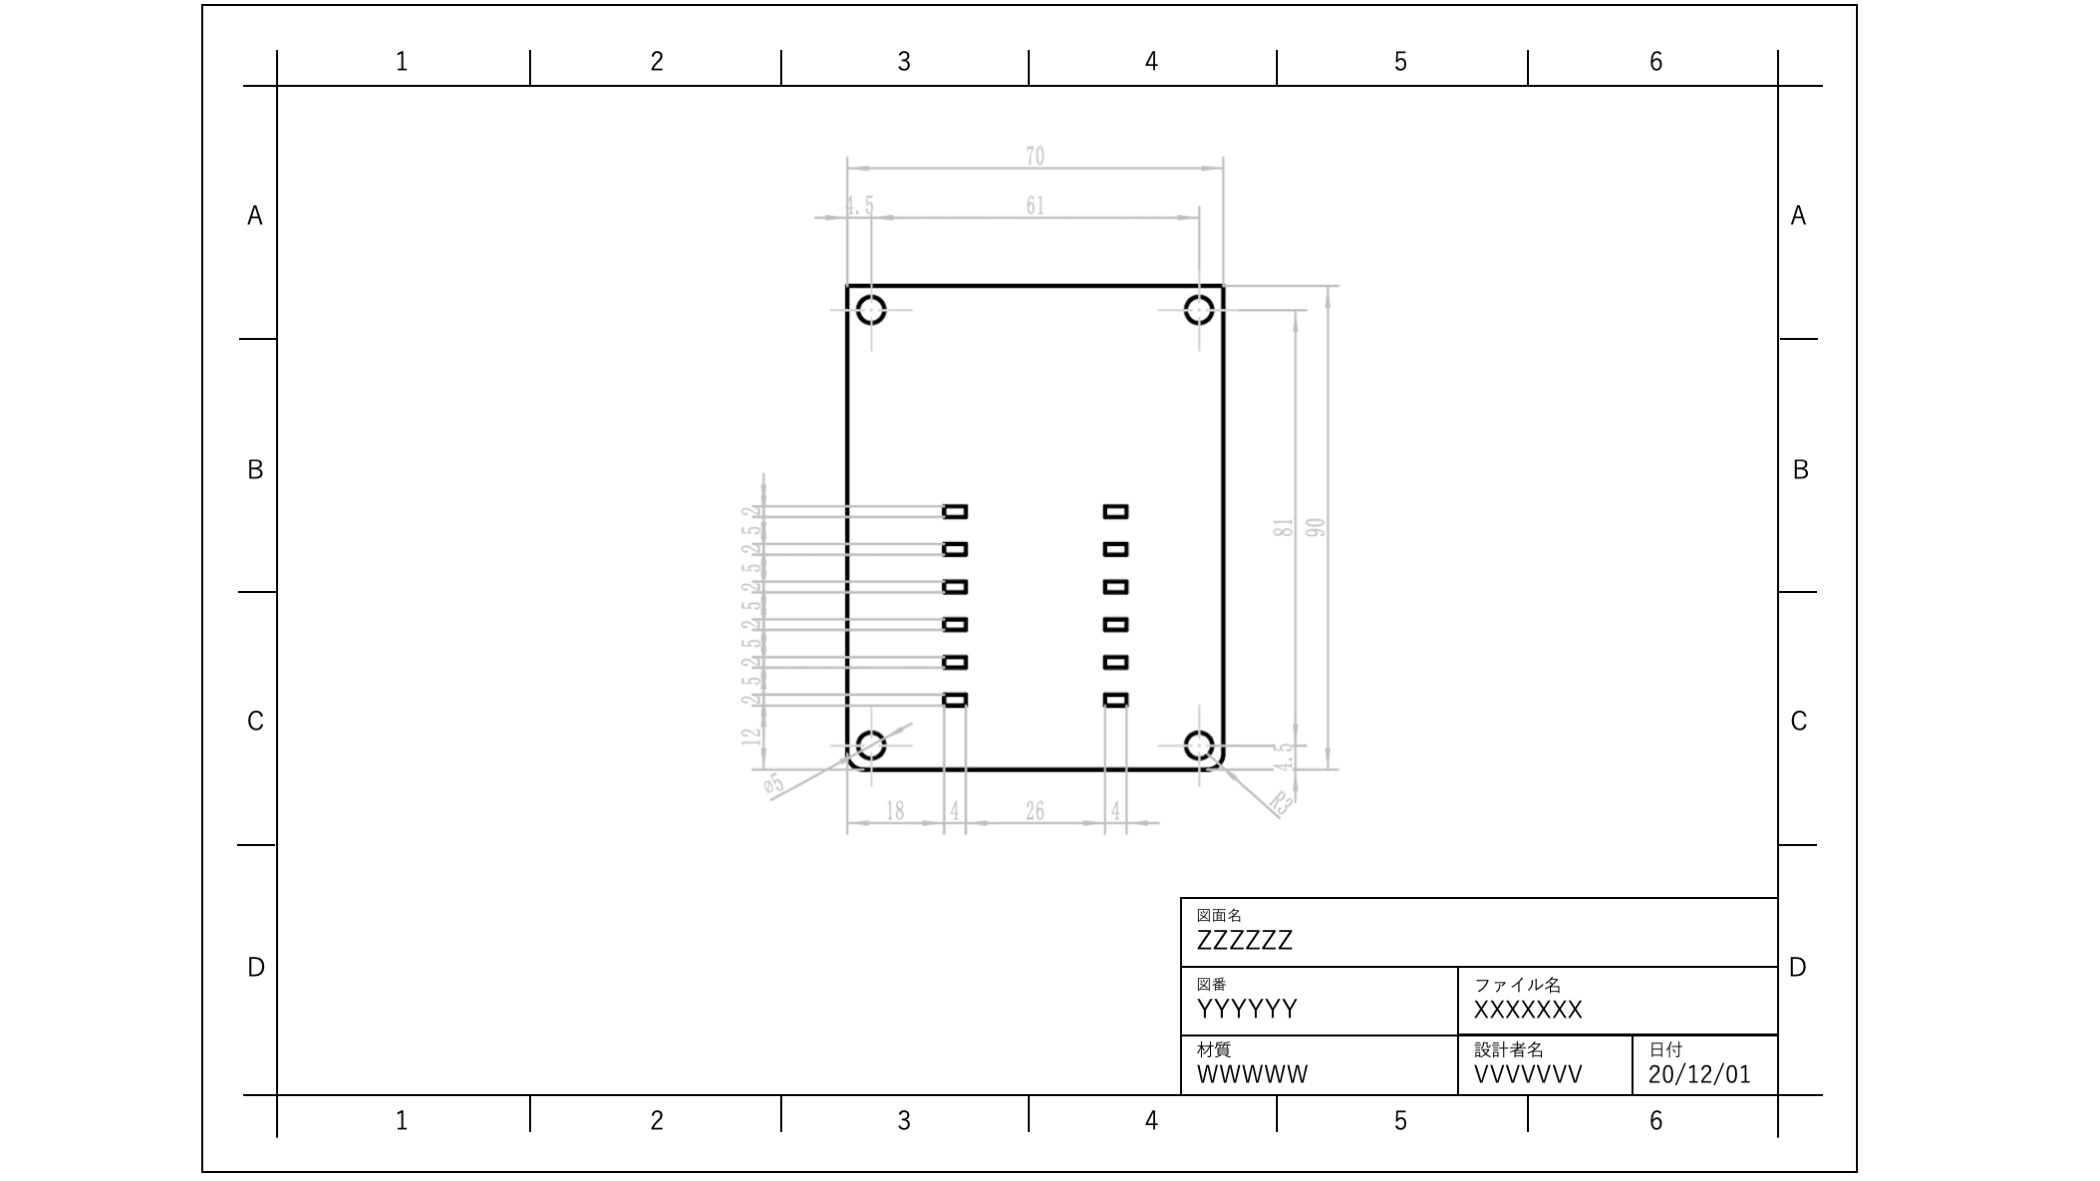circle: (847, 712, 901, 769), (1180, 717, 1214, 766), (850, 288, 893, 324), (1178, 288, 1222, 324)
rectangle: (1089, 606, 1142, 637), (927, 559, 975, 594), (1095, 493, 1139, 526), (927, 645, 974, 676), (926, 534, 974, 564), (1090, 642, 1139, 671), (925, 611, 976, 637), (914, 686, 976, 708), (1090, 531, 1129, 561), (1087, 686, 1137, 708), (1095, 572, 1138, 597), (937, 493, 974, 521)
